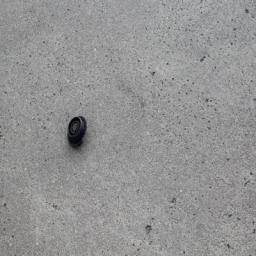FOD: (62, 115, 96, 149)
